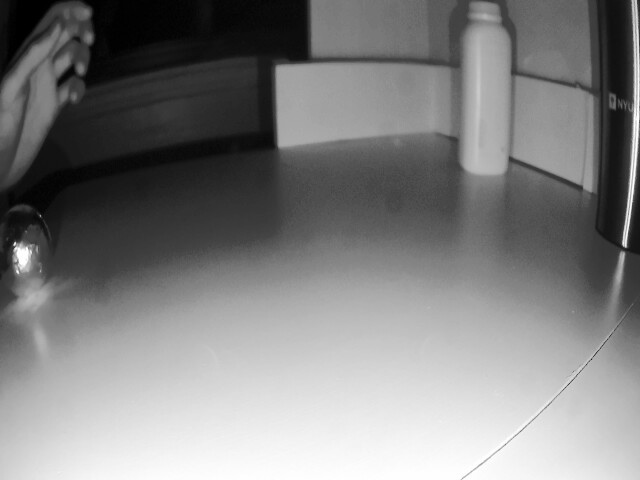black: (0, 205, 72, 291)
